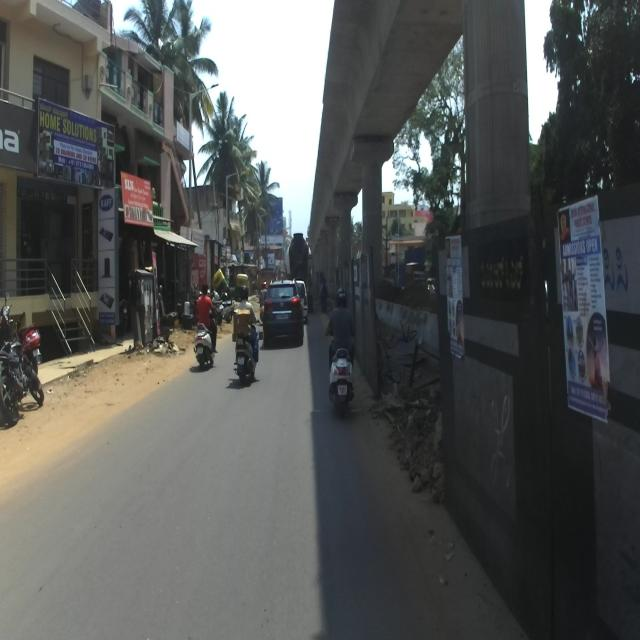car: (262, 276, 304, 353), (290, 279, 309, 331)
motorcycle: (0, 310, 42, 429)
scooter: (324, 324, 358, 416), (5, 304, 47, 367), (231, 306, 262, 387), (191, 308, 219, 371)
